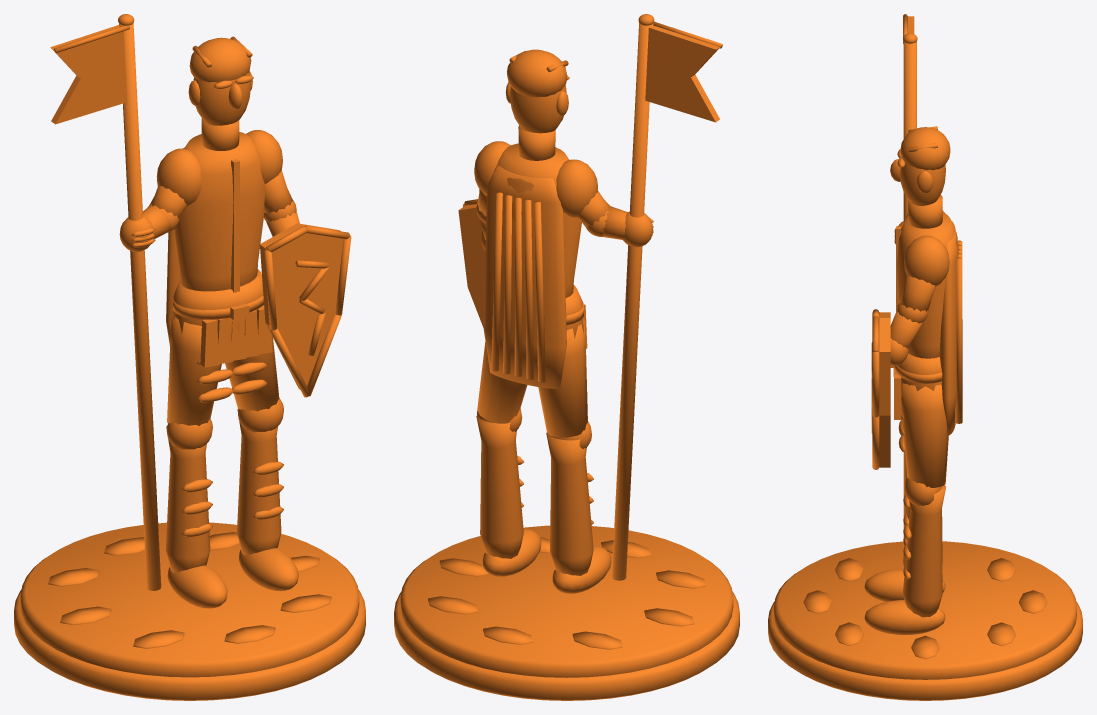
The model's file is knight-orange-level-2-bare.fbx.
3 renders of one model, left to right at view 1: azimuth 30°, elevation 25°; view 2: azimuth 150°, elevation 25°; view 3: azimuth 270°, elevation 25°, orthographic. The views are drawn at different scales.
Visible parts, largest first — view 1: Knight_Level_2_Bare_Sculpt; view 2: Knight_Level_2_Bare_Sculpt; view 3: Knight_Level_2_Bare_Sculpt.
Boxes of the visible parts, bbox=[...] form: Knight_Level_2_Bare_Sculpt: bbox=[14, 14, 365, 700]; Knight_Level_2_Bare_Sculpt: bbox=[394, 14, 739, 700]; Knight_Level_2_Bare_Sculpt: bbox=[768, 14, 1082, 700].
Bounding box in the file's own units: 0.012 × 0.024 × 0.012.
